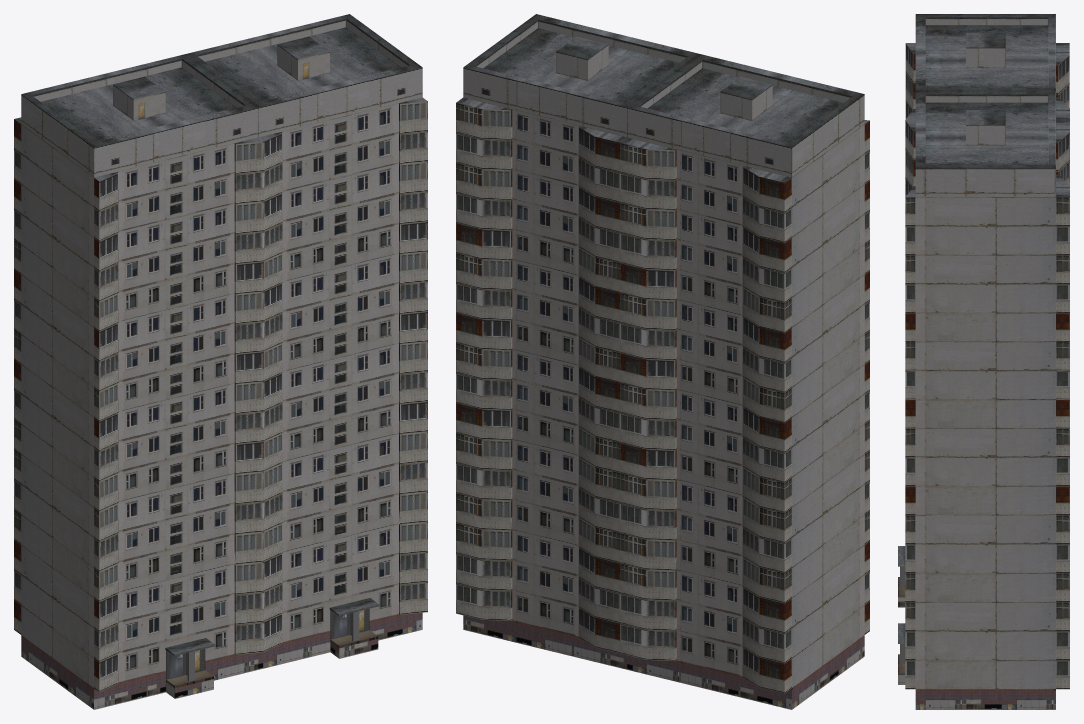
3 views of the same model, side by side, from view 1: azimuth 30°, elevation 25°; view 2: azimuth 150°, elevation 25°; view 3: azimuth 270°, elevation 25° (orthographic). The views are drawn at different scales.
Parts seen in each view (by area): view 1: 656409882.II-57-17 Soviet tenement; view 2: 656409882.II-57-17 Soviet tenement; view 3: 656409882.II-57-17 Soviet tenement.
Part boxes in pixels (bbox=[...]): 656409882.II-57-17 Soviet tenement: bbox=[14, 14, 427, 709]; 656409882.II-57-17 Soviet tenement: bbox=[456, 14, 869, 709]; 656409882.II-57-17 Soviet tenement: bbox=[898, 14, 1069, 709].
Bounding box in the file's own units: 32 × 53.52 × 15.06.
Materials: 1 (1 with a texture image).
